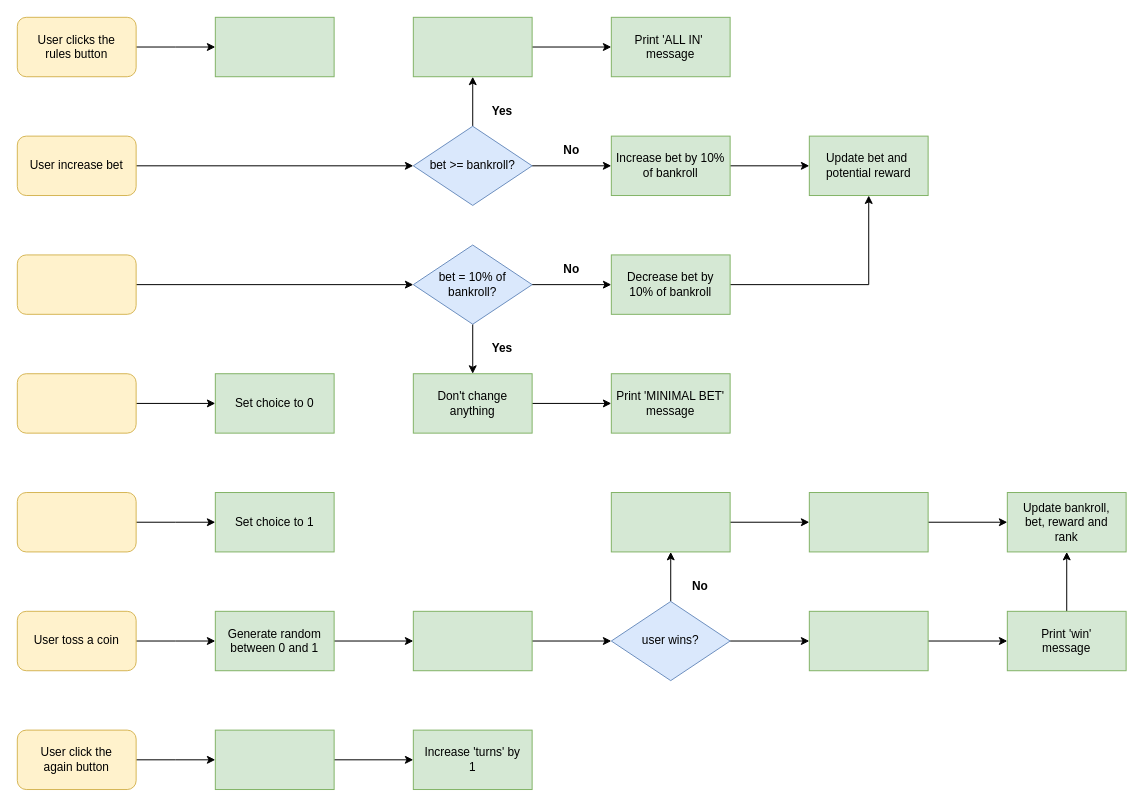
Image size: 1143x807. Some labels were removed from this diagram. The centre of each missing label's shape, as x and y in pixels:
"Add bet to the bankroll" goes at [868,640].
"Display coin side" goes at [472,640].
"Make modal window & overlay visible" goes at [274,46].
"Print 'loss' message" goes at [868,522].
"Restore default coin image" goes at [274,759].
"Set bet = 100% of bankroll" goes at [472,46].
"Subtract bet from the bankroll" goes at [670,522].
"User bet on avers" goes at [76,522].
"User bet on revers" goes at [76,403].
"User decrease bet" goes at [76,284].
